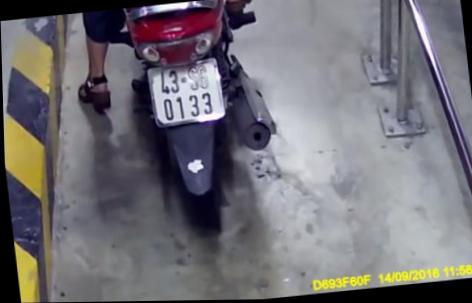LP: (144, 56, 226, 128)
